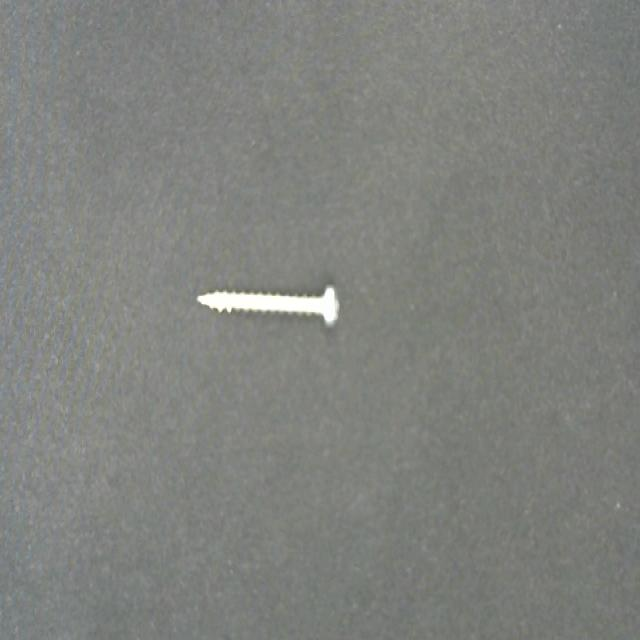SheetMetalScrew: (195, 282, 340, 326)
